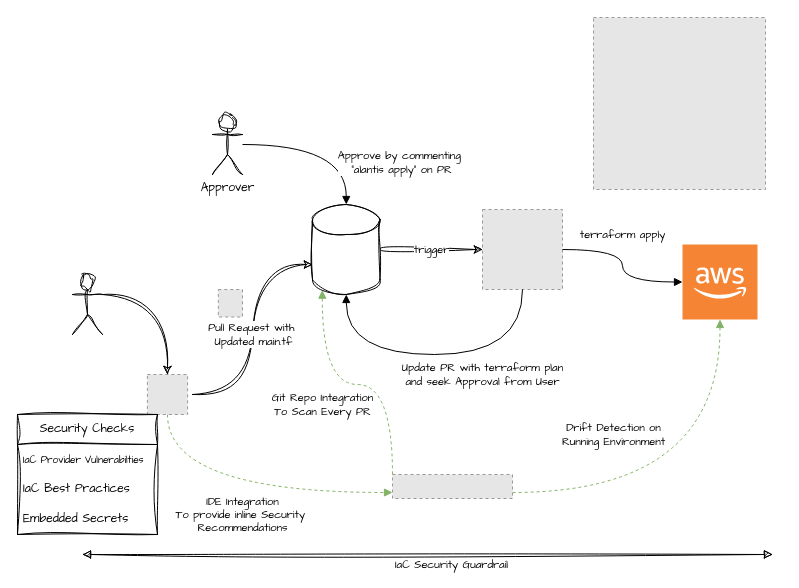
This 799x588 diagram has some shape labels left out. Grey dashed boxes stand in for pictures. The centre of each missing label's shape, as x and y in pixels:
Cloud Engineer: pixel 87 304
Git: pixel 346 249
